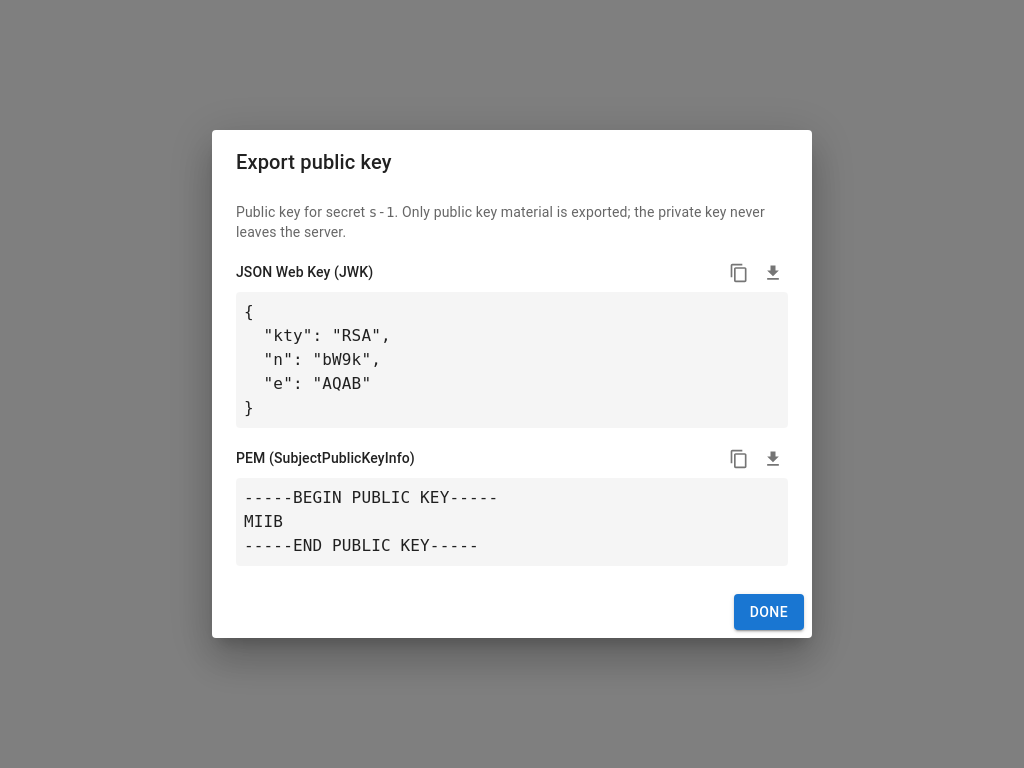
ExportPublicKeyDialog › copies the pem and confirms it in the copy tooltip
The image size is (1024, 768).
Hover over the button named "Copy PEM (SubjectPublicKeyInfo)" at {"x": 739, "y": 459}, box 724,444 -> 754,474
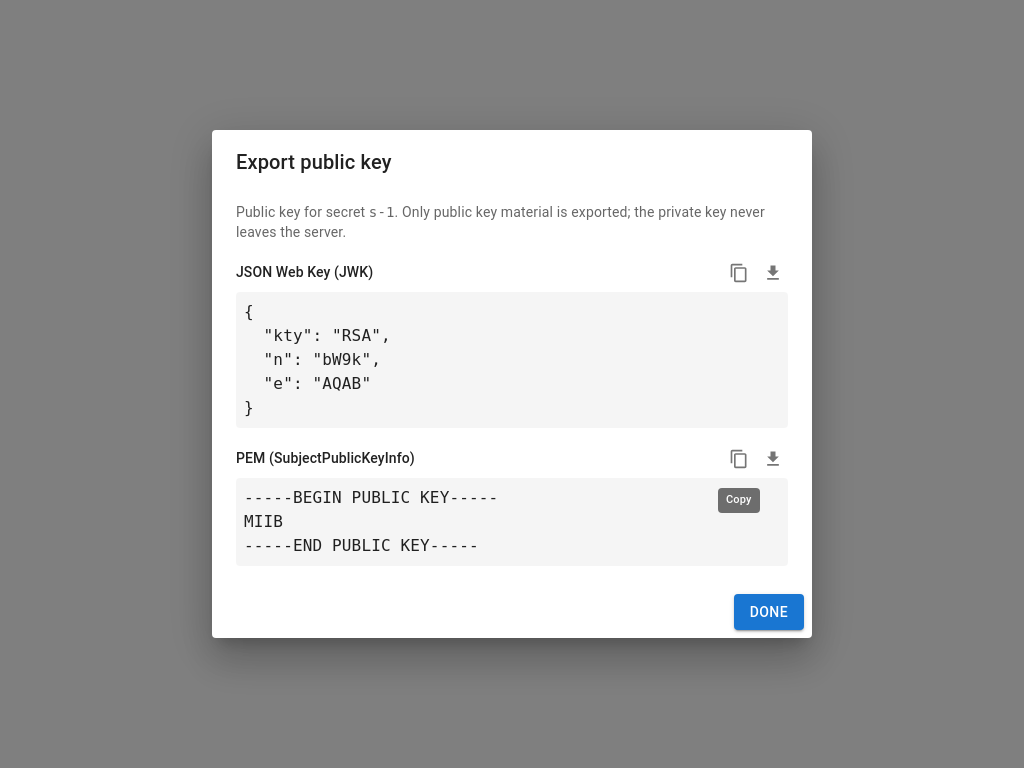
Check: the tooltip "Copy" is shown, box 716,474 -> 762,514
Click the button named "Copy PEM (SubjectPublicKeyInfo)" at {"x": 739, "y": 459}, box 724,444 -> 754,474
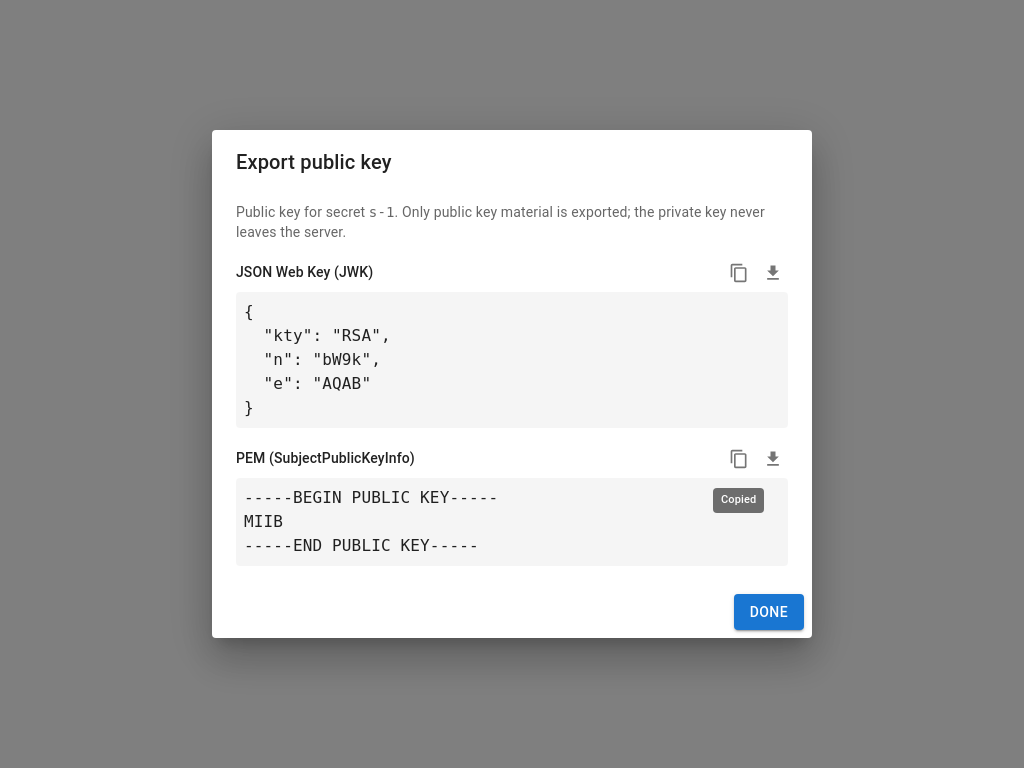
Check: the tooltip "Copied" is shown, box 711,474 -> 766,514
